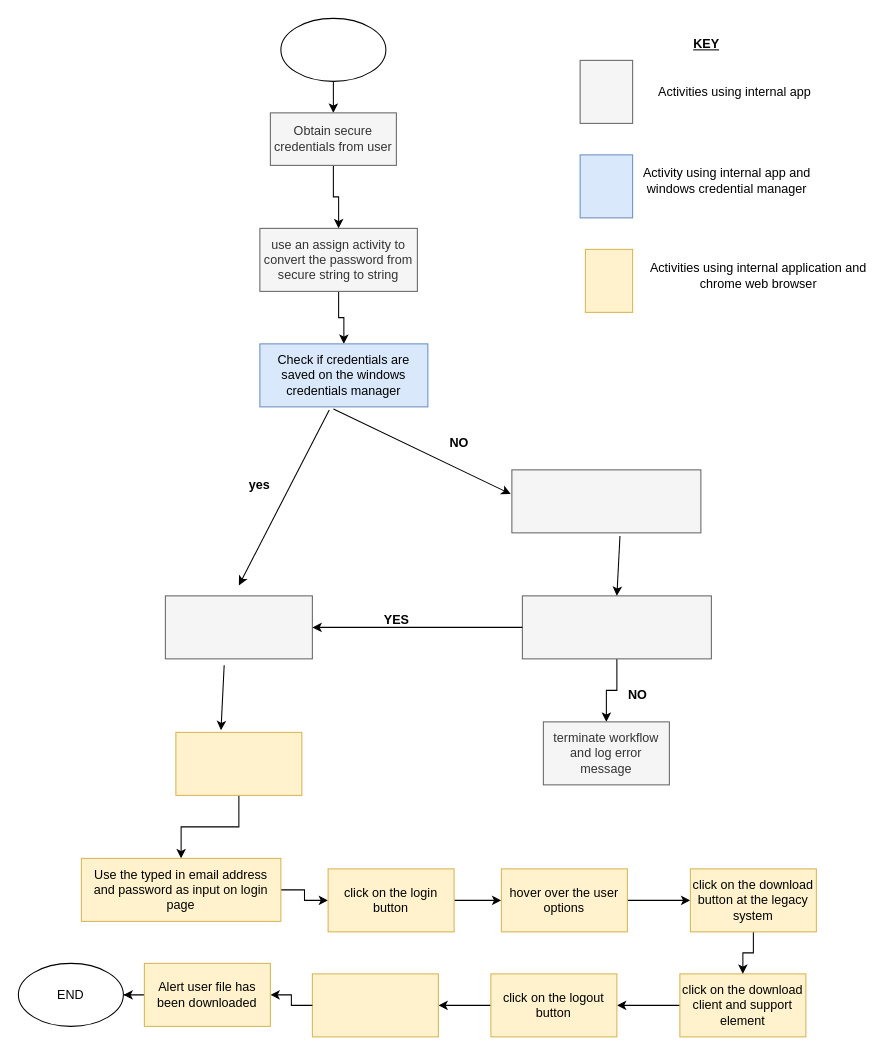
The diagram is 887 pixels wide and 1055 high, and some of its shapes have lost their labels. Here are the shapes that lost their labels. From the top down, the centre of each, then its label:
pixel 333 49: Start
pixel 606 501: use input dialog activity to prompt user to enter their email and password
pixel 238 627: invoke the login workflow
pixel 616 627: Confirm user input
pixel 238 763: open ACME page on Chrome Browser
pixel 374 1005: click on the close window button
